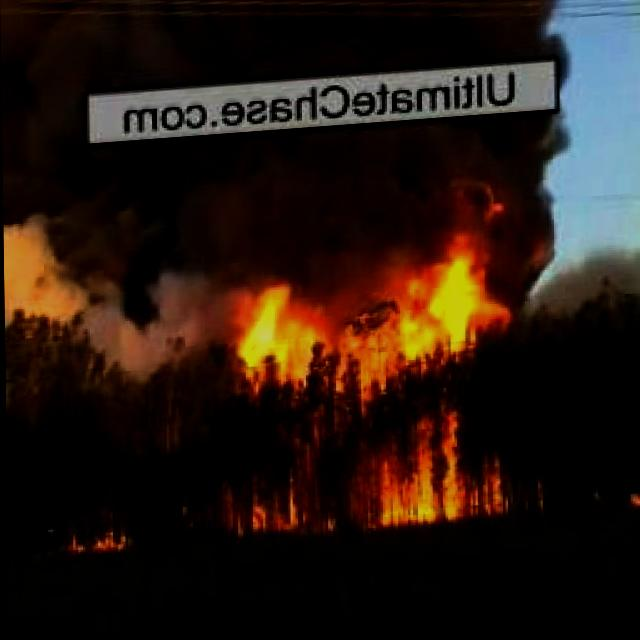Fire: (218, 238, 488, 540), (61, 527, 137, 555)
Smoke: (2, 121, 567, 286), (0, 0, 573, 99)
